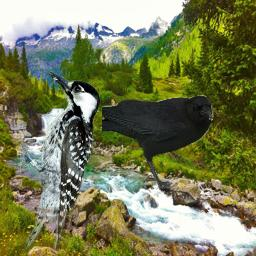Crow: (102, 95, 214, 189)
Woodpecker: (20, 70, 100, 252)
